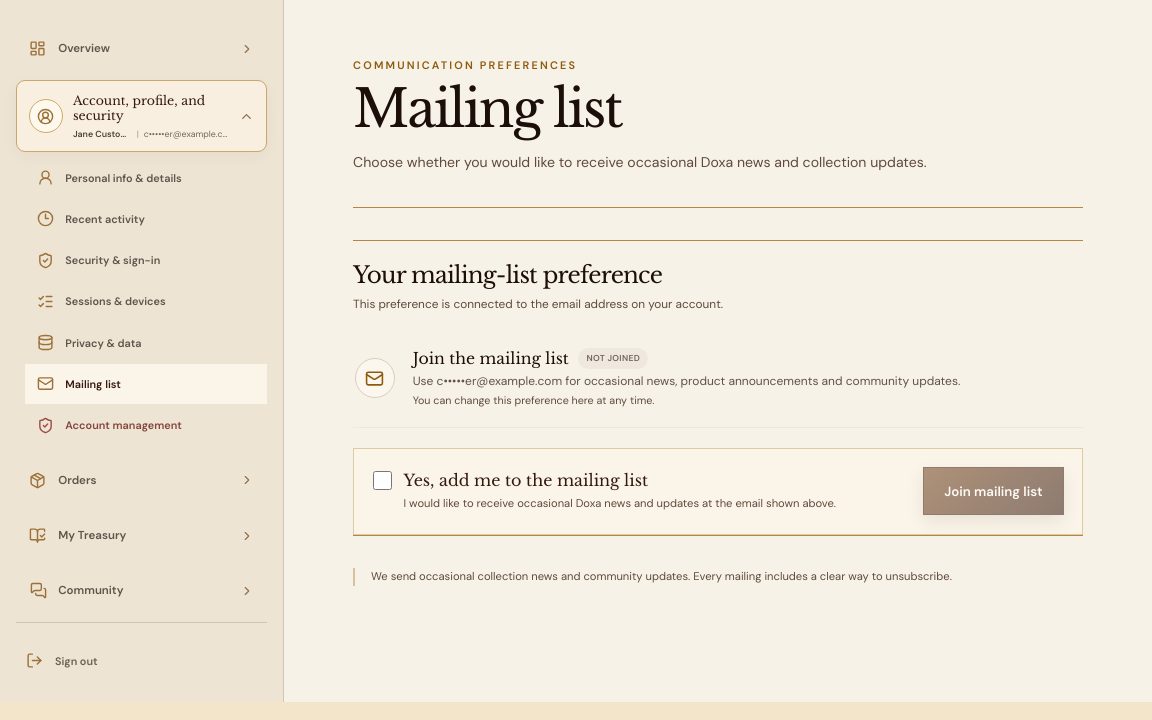
account mailing list › requires explicit consent and joins using the account-settings source
The image size is (1152, 720).
Expected: the button "Join mailing list" is disabled, [923,467,1064,515]
What coordinates should you click on to do the following:
click the checkbox labelled "Yes, add me to the mailing list"
I would click on:
 (382, 481)
Its box is [372,471,392,490].
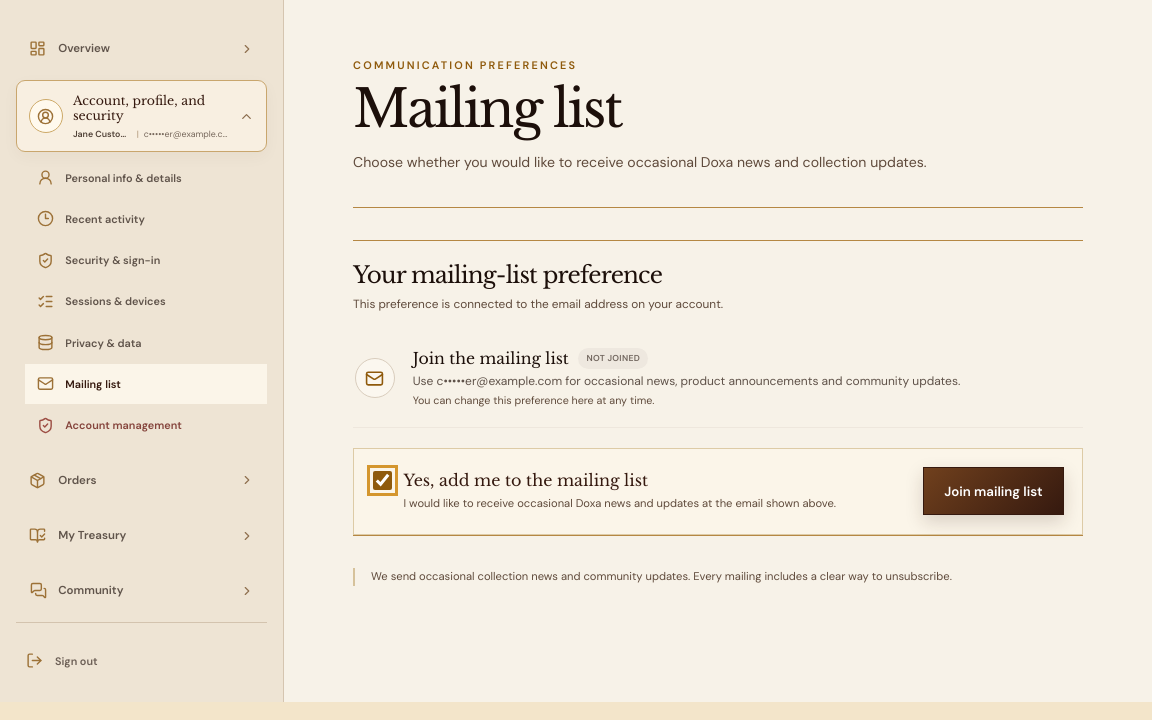
What coordinates should you click on to do the following:
click the button "Join mailing list"
I would click on:
 (993, 491)
Its box is [923,467,1064,515].
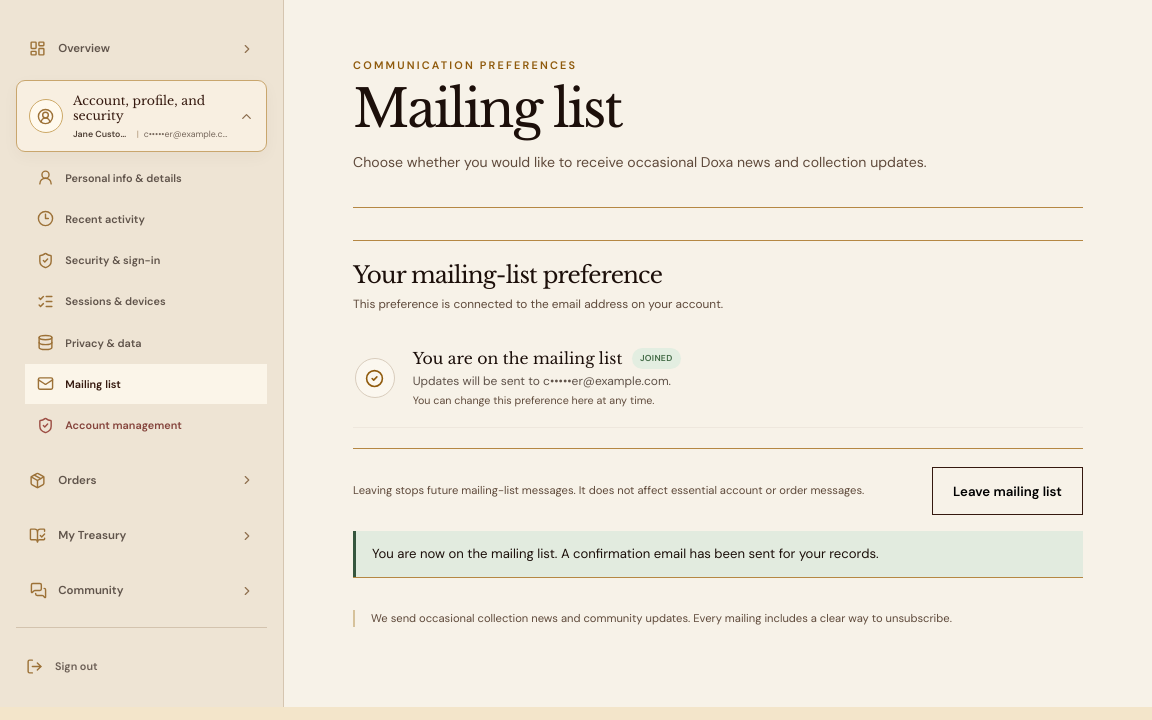
Expected: the text "You are now on the mailing list" shows "confirmation email has been sent for your records", [372,545,879,562]
